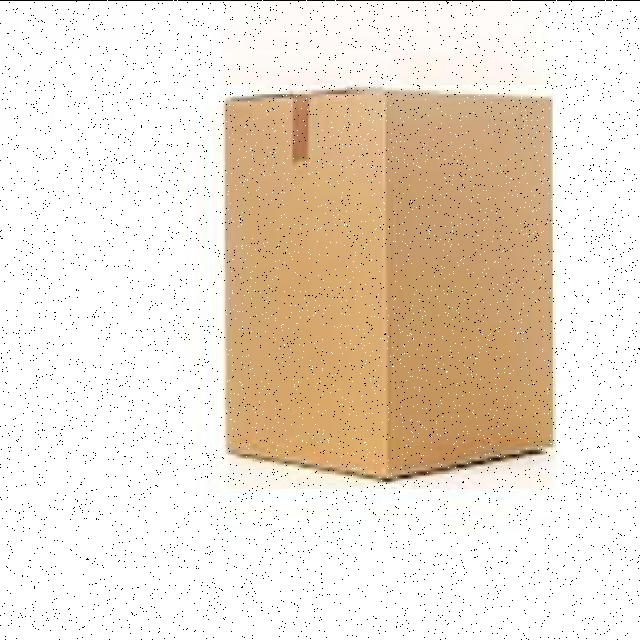normal: (217, 84, 557, 488)
